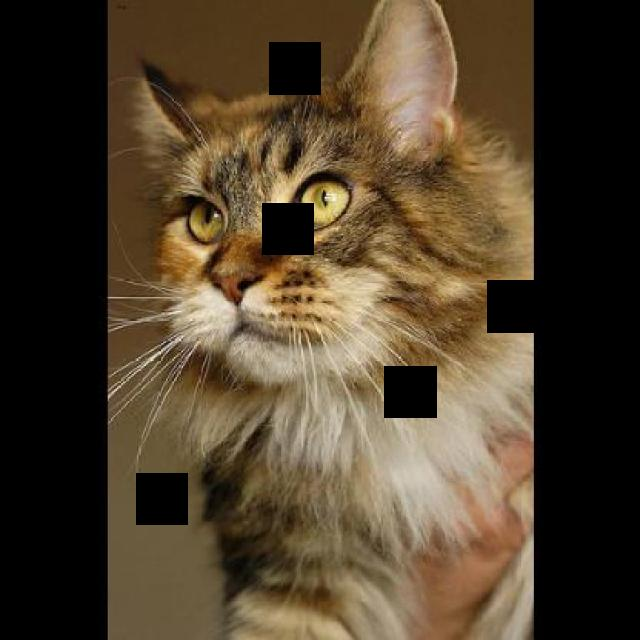unauthorized: (106, 0, 533, 638)
